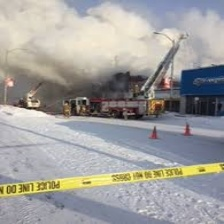smoke: (2, 13, 145, 91)
